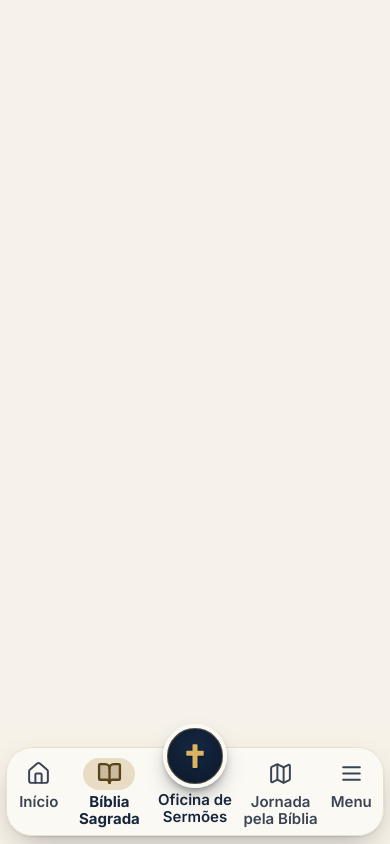
Scenario: Menu do celular em cartõezinhos › a aba Menu abre uma folha (dialog) com o utilizador, os 3 grupos e 12 cartões com ícone
This screenshot has width=390, height=844.
What coordinates should you click on to do the following:
click the button "Menu"
I would click on:
 (351, 791)
Its box is x1=322 y1=754 x2=381 y2=829.
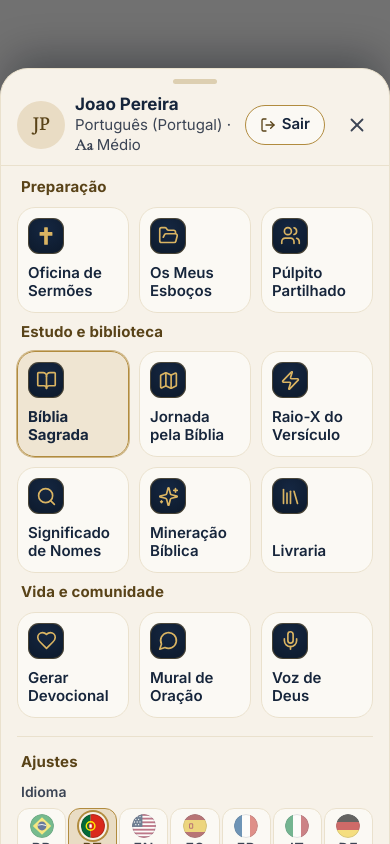
Check: the button "Menu" is expanded, box x1=322 y1=754 x2=381 y2=829
Check: the dialog named "Menu" shows "Joao Pereira", box x1=75 y1=94 x2=179 y2=114
Check: the text with class "msheet-avatar" reads "JP", box x1=32 y1=112 x2=50 y2=135
